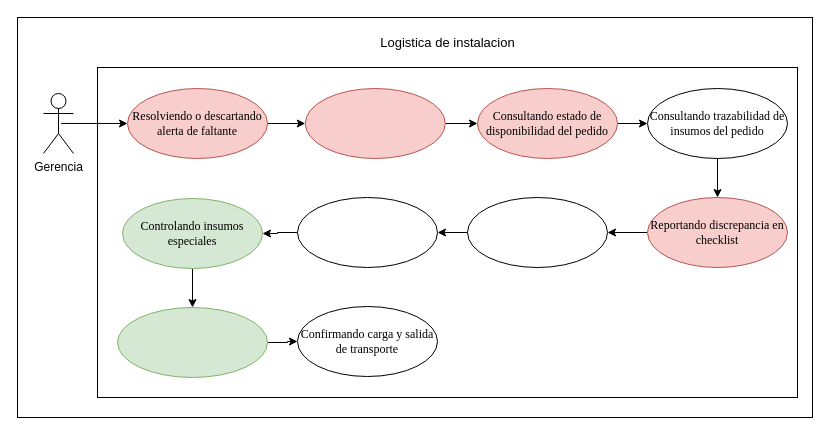
Some shapes in this 830 by 435 pixel diagram are drawn without their labels. Here are the shapes that lost their labels. From the top down, the box of each, then its label:
(304, 88, 445, 158): Visualizando lista de chequeo por pedido
(296, 196, 438, 268): Vinculando insumos a pedido de instalación
(466, 196, 608, 268): Marcando insumos preparados para despacho
(116, 306, 268, 378): Registrando insumo especial en catálogo
